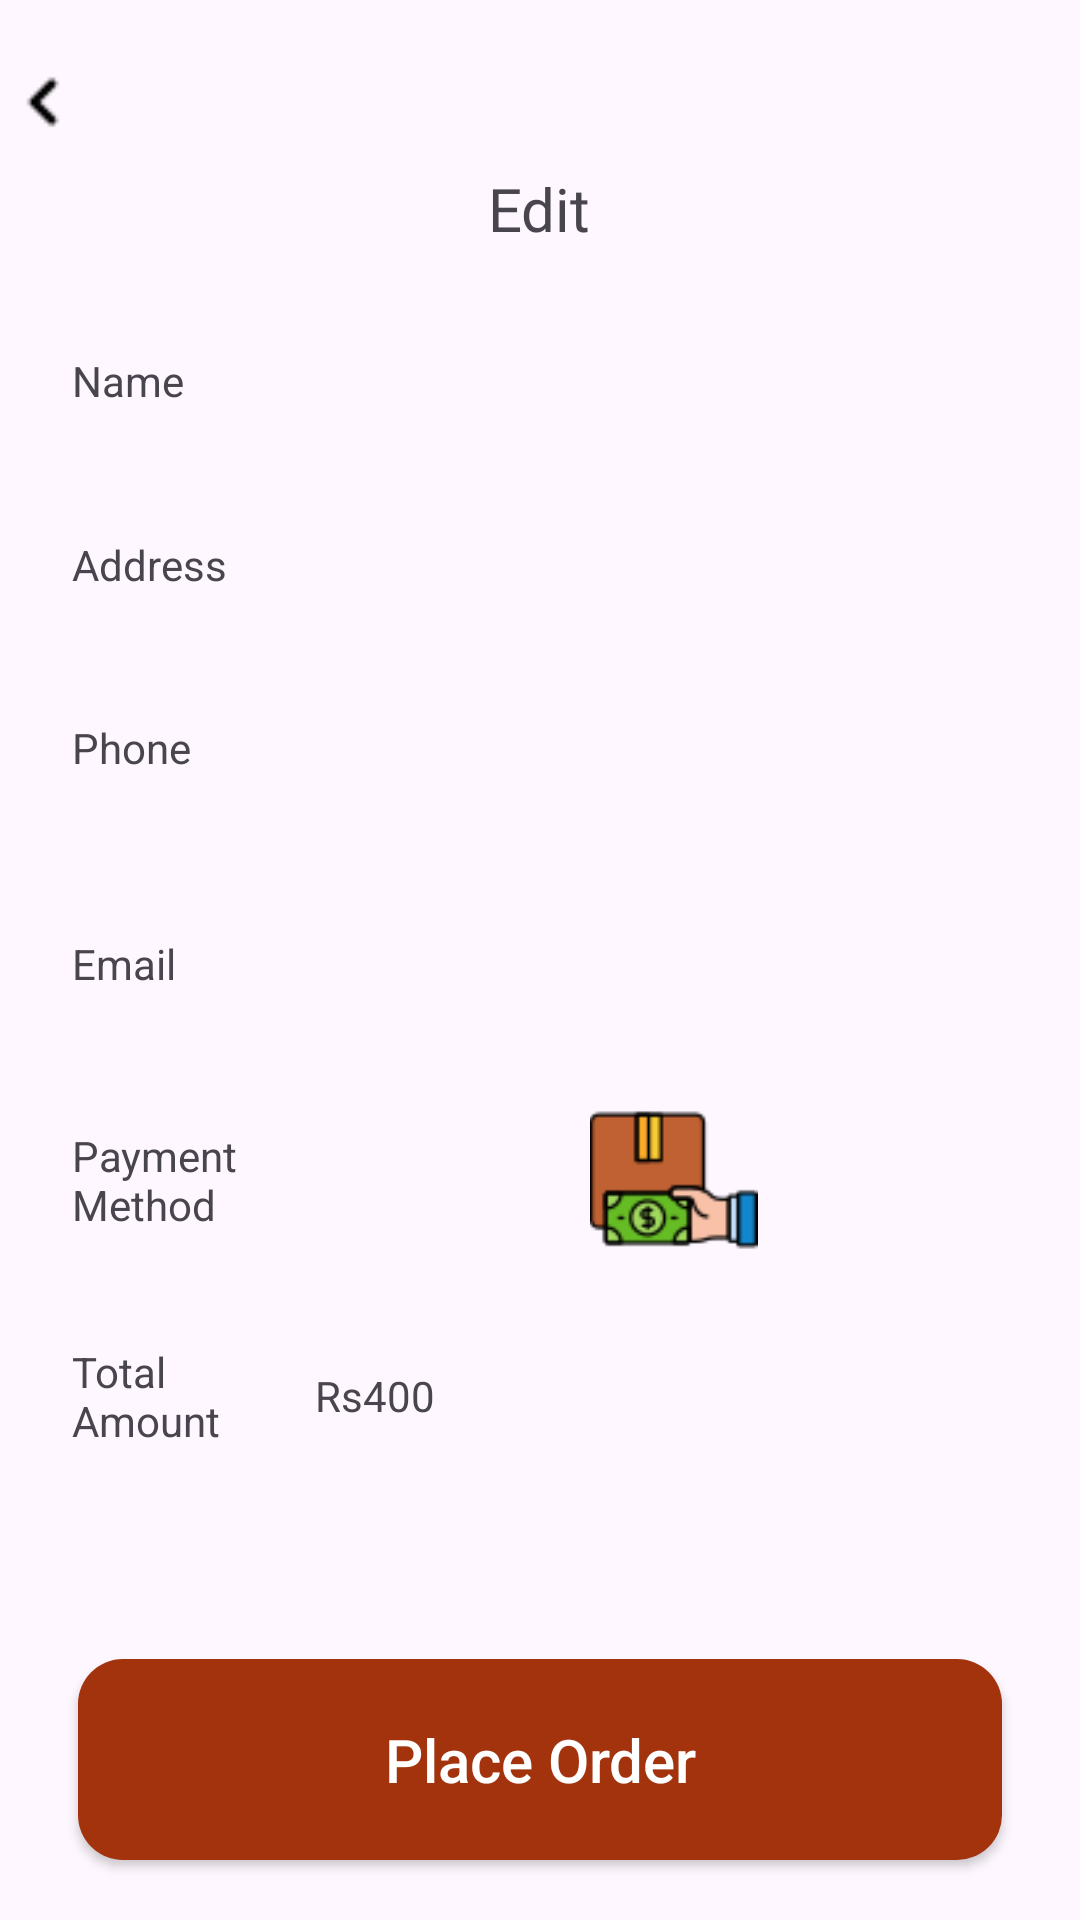

Point at icon controls on the screen. Image size 1080 × 1920, points as [x,y].
back: [43,102]
cod: [674,1180]
